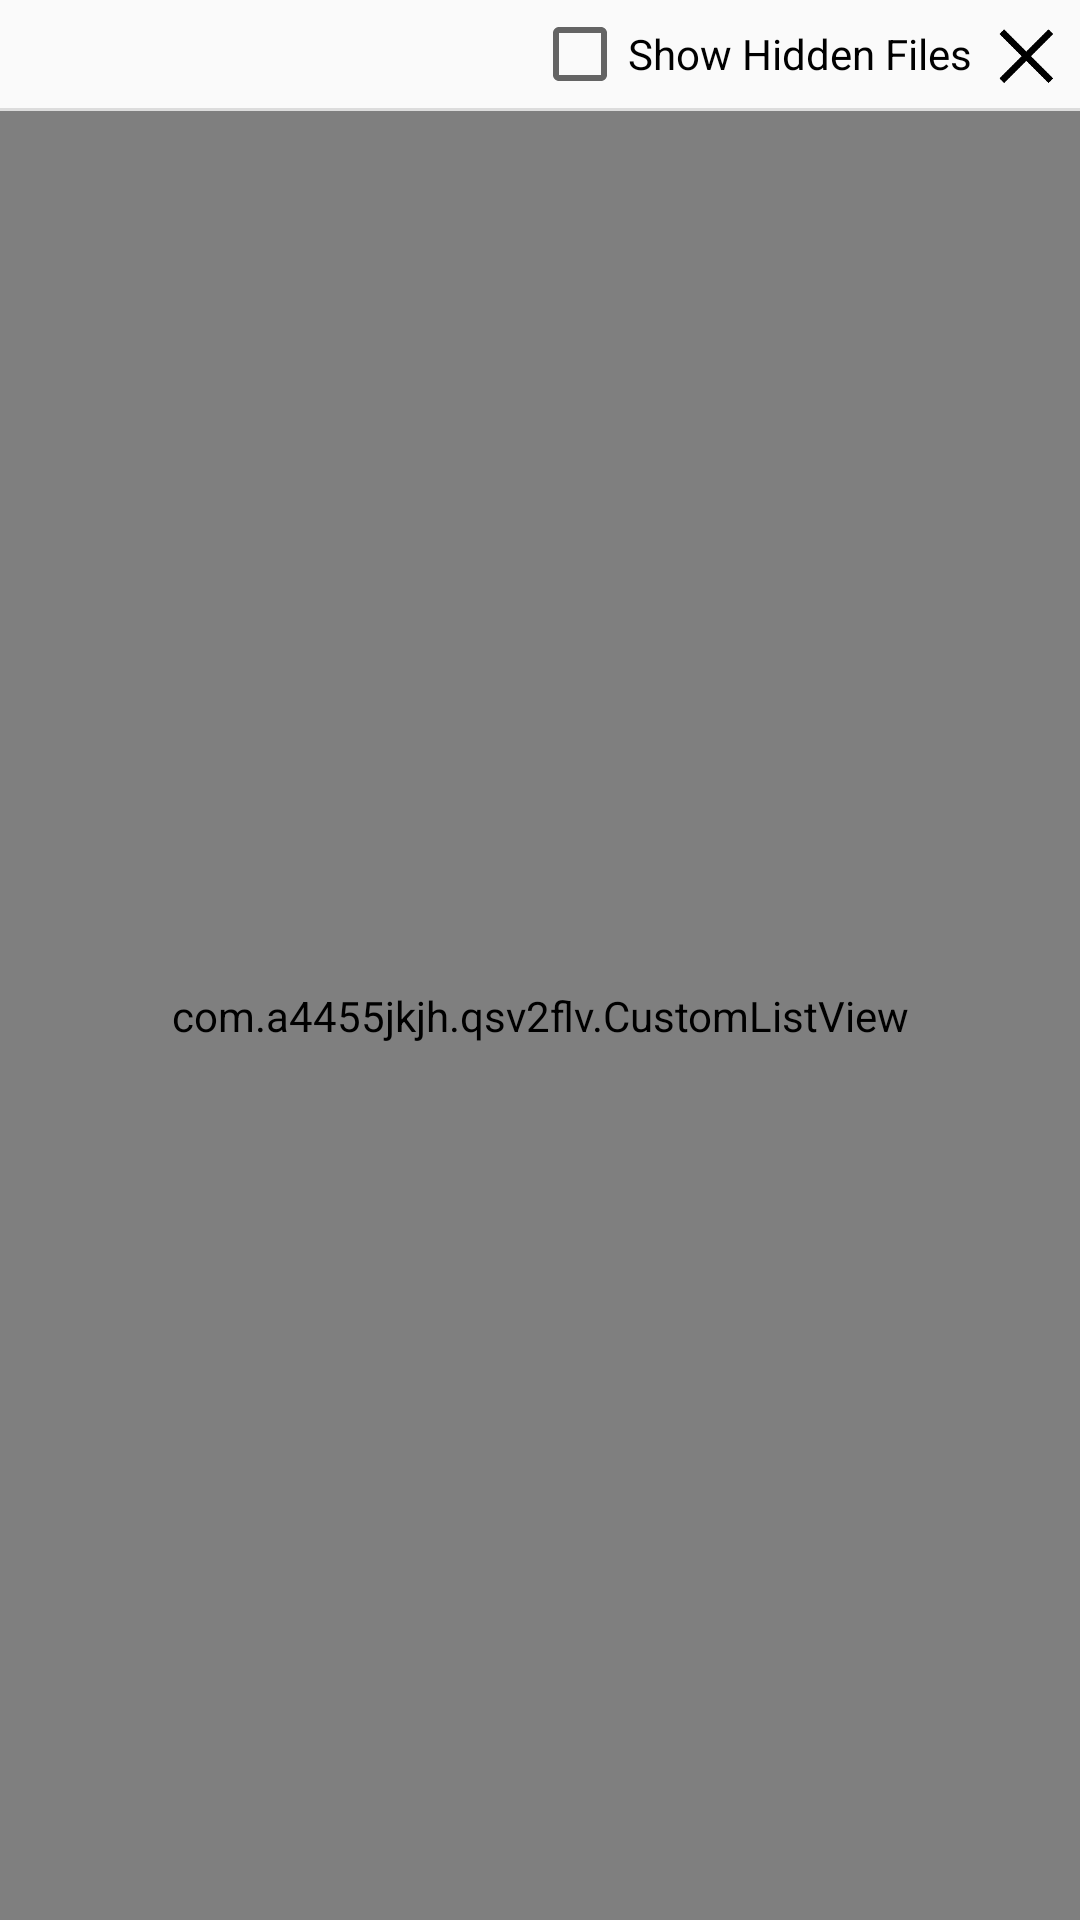

Icon click points for this 1080px x 1920px phone screenshot, format (x=x, y=y):
close: (x=1026, y=56)
